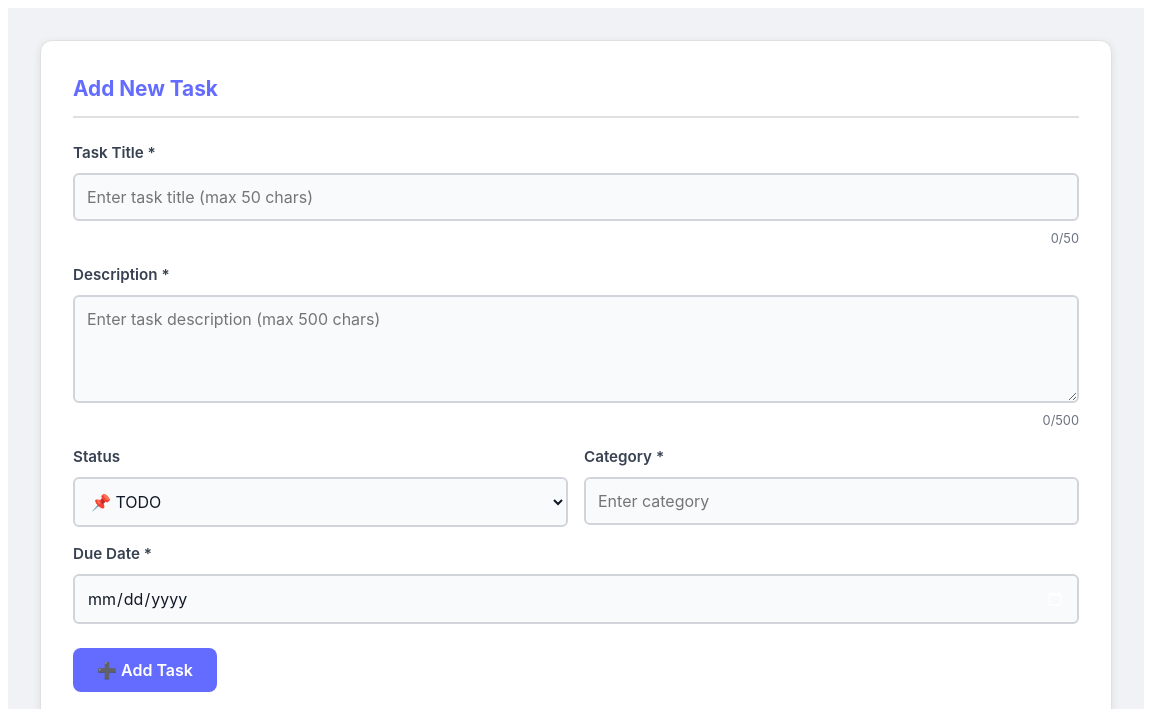
Test: TaskForm – create mode › shows validation error when category is empty
In the field labelled "Task Title *": (576, 197) [73, 173, 1079, 221], type "Title"
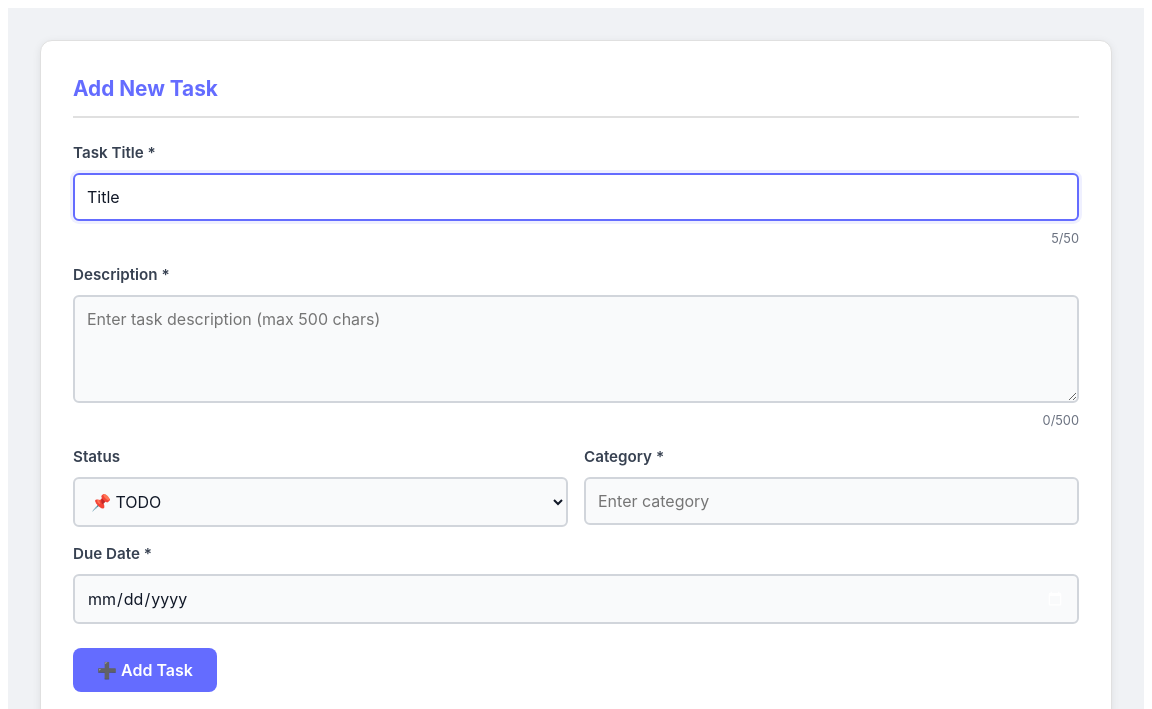
In the text box labelled "Description *": (576, 349) [73, 295, 1079, 403], type "Desc"
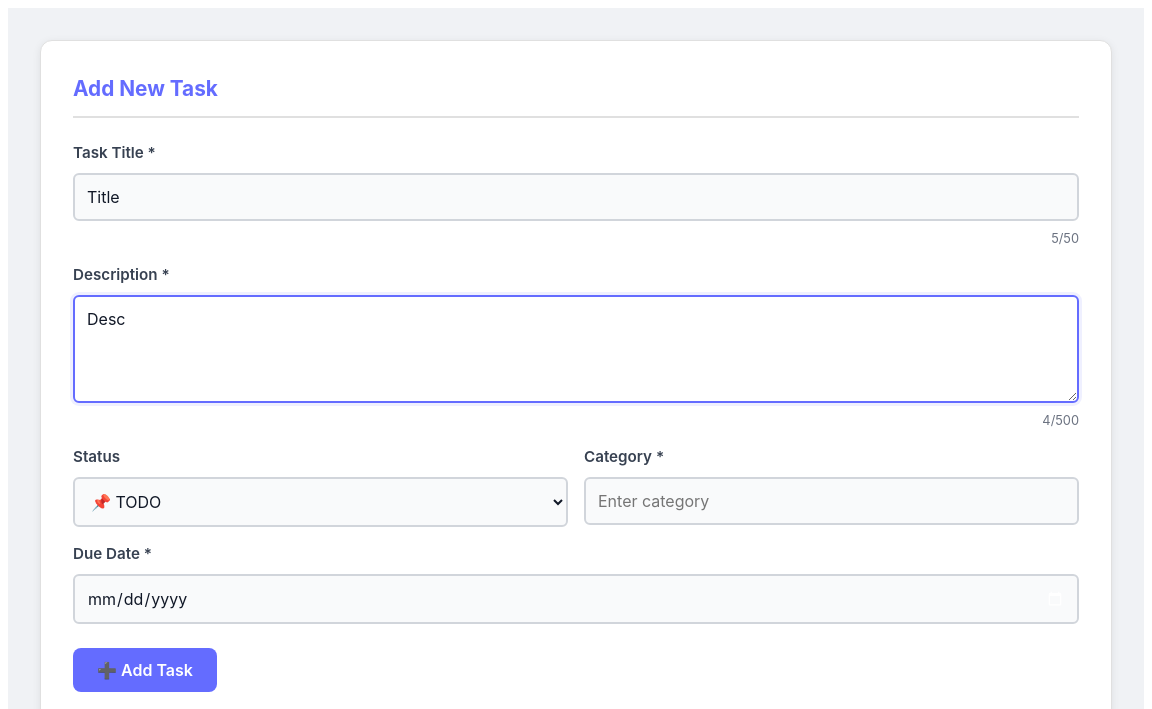
Submit the form
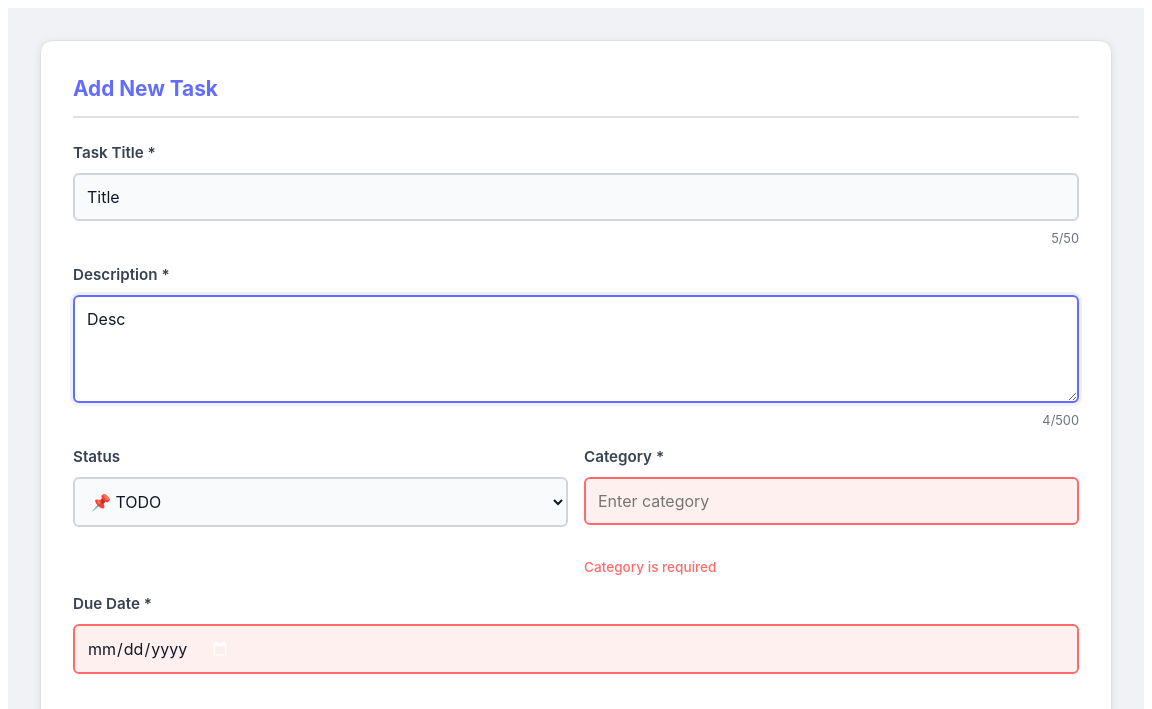
Result: the text "Category is required" is shown at [584, 559, 716, 575]
